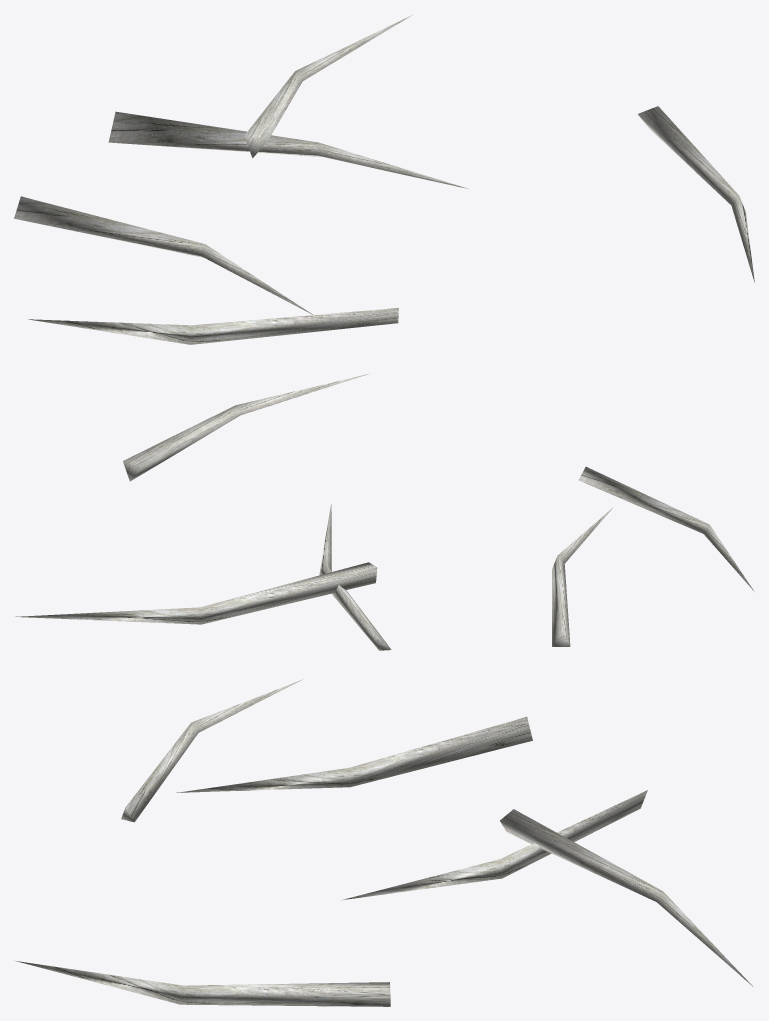
Rendered from shor_driftwood_sml_l1.fbx.
3 renders of one model, top to bottom at view 1: azimuth 30°, elevation 25°; view 2: azimuth 150°, elevation 25°; view 3: azimuth 270°, elevation 25°, orthographic. The views are drawn at different scales.
Visible parts, largest first — view 1: mesh_node; view 2: mesh_node; view 3: mesh_node.
Part boxes in pixels (x1=…): mesh_node: x1=14, y1=15, x2=754, y2=344; mesh_node: x1=15, y1=373, x2=754, y2=650; mesh_node: x1=14, y1=679, x2=752, y2=1006.
Bounding box in the file's own units: 3.2 × 0.1744 × 3.06.
